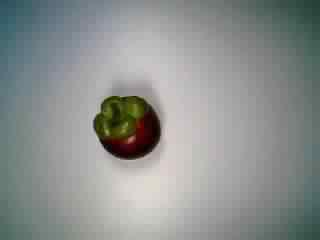mangosteen: (89, 91, 164, 164)
